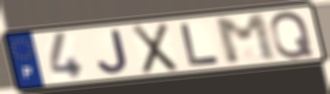4: (49, 31, 86, 83)
J: (95, 27, 131, 76)
L: (177, 21, 223, 68)
M: (212, 12, 281, 67)
Q: (268, 10, 316, 61)
X: (129, 21, 181, 76)
